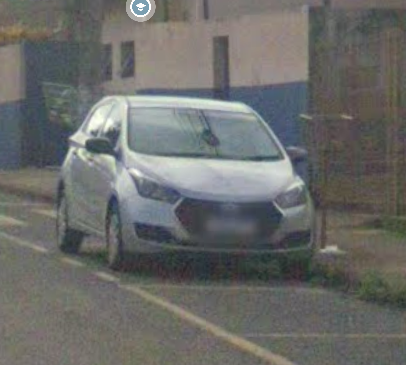car: (49, 87, 322, 290)
